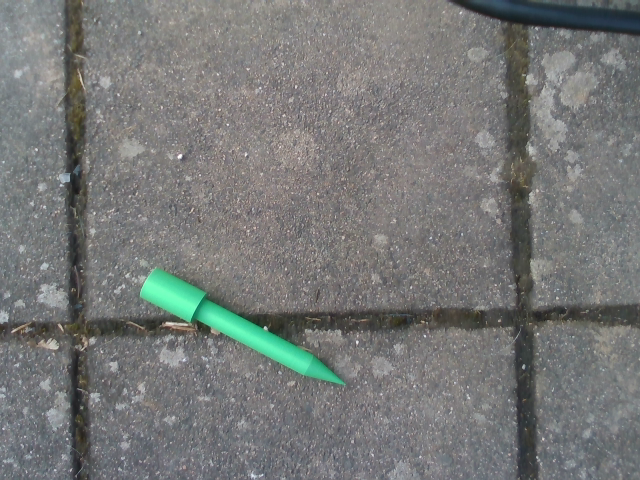Probe: (129, 264, 352, 391)
